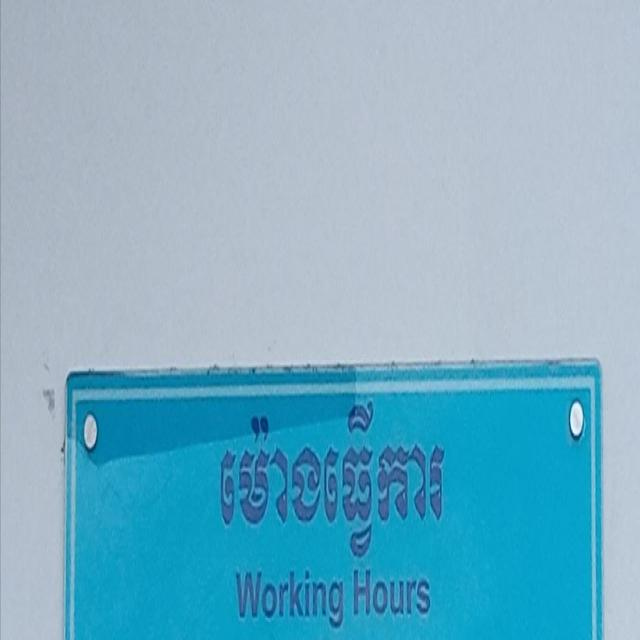Yolov11kh: (204, 392, 472, 579)
